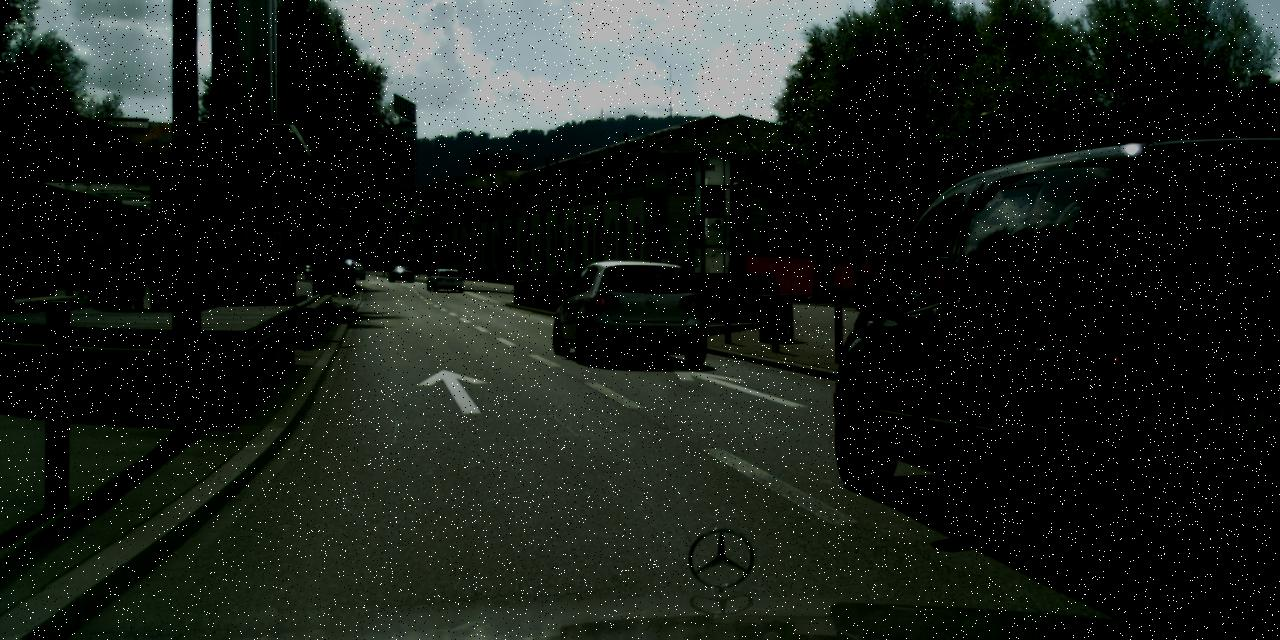ped: (85, 239, 125, 337), (0, 229, 30, 333), (118, 246, 152, 330), (82, 246, 116, 326)
